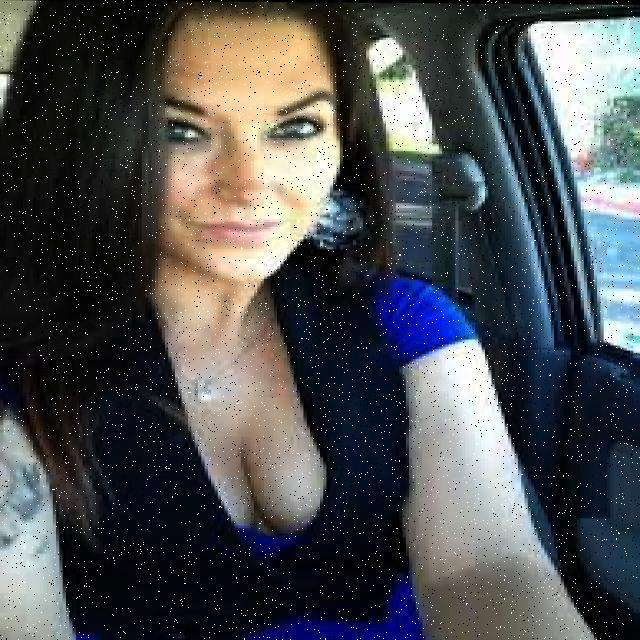noSeatbelt: (0, 242, 509, 640)
